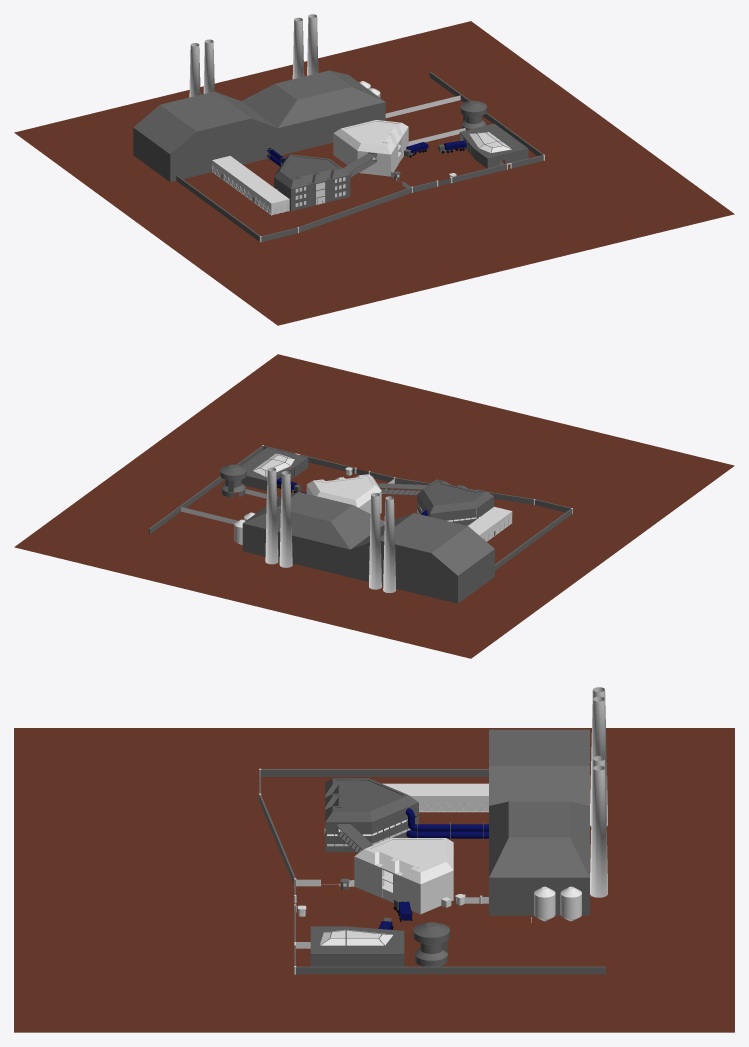
The model's file is ftjr_1.Level_inspoV3.fbx.
3 views of the same model, one above another, from view 1: azimuth 30°, elevation 25°; view 2: azimuth 150°, elevation 25°; view 3: azimuth 270°, elevation 25° (orthographic). The views are drawn at different scales.
Parts seen in each view (by area): view 1: Ground, hall_bg.001, hall_bg, Roof.001, Roof, Cube.012, wall_front, roof, Cube.001, Cylinder.020, Cylinder.021, Cube.058 (+5 smaller); view 2: Ground, hall_bg.001, hall_bg, Roof, Roof.001, Cylinder.020, Cylinder.021, Cylinder.023, Cylinder.022, roof, Cube.012, Wall (+3 smaller); view 3: Ground, hall_bg, hall_bg.001, Roof.001, Roof, Wall, Cylinder.020, Cube.008, Cube.012, roof, wall_front.001, Cylinder.022 (+11 smaller).
Part boxes in pixels (x1,y1,x2,y2): Ground: [14, 21, 734, 325]; hall_bg.001: [133, 91, 277, 182]; hall_bg: [241, 70, 385, 155]; Roof.001: [333, 120, 408, 154]; Roof: [274, 154, 349, 189]; Cube.012: [212, 156, 289, 208]; wall_front: [291, 175, 350, 211]; roof: [459, 123, 528, 158]; Cube.001: [299, 187, 411, 232]; Cylinder.020: [307, 14, 318, 75]; Cylinder.021: [292, 17, 304, 79]; Cube.058: [333, 141, 390, 176]; Ground: [14, 354, 734, 658]; hall_bg.001: [350, 513, 494, 603]; hall_bg: [242, 492, 384, 577]; Roof: [417, 479, 493, 514]; Roof.001: [306, 474, 381, 507]; Cylinder.020: [265, 467, 278, 564]; Cylinder.021: [279, 471, 292, 567]; Cylinder.023: [383, 496, 395, 592]; Cylinder.022: [369, 493, 381, 589]; roof: [242, 447, 308, 481]; Cube.012: [468, 506, 512, 537]; Wall: [148, 446, 263, 534]; Ground: [14, 728, 734, 1032]; hall_bg: [489, 801, 589, 915]; hall_bg.001: [489, 729, 589, 805]; Roof.001: [354, 838, 453, 884]; Roof: [325, 778, 418, 822]; Wall: [296, 966, 605, 974]; Cylinder.020: [590, 765, 607, 897]; Cube.008: [261, 769, 488, 776]; Cube.012: [382, 783, 488, 802]; roof: [310, 926, 404, 954]; wall_front.001: [354, 857, 420, 913]; Cylinder.022: [590, 696, 607, 826].
Bounding box in the file's own units: 20000 × 3873 × 20000.
